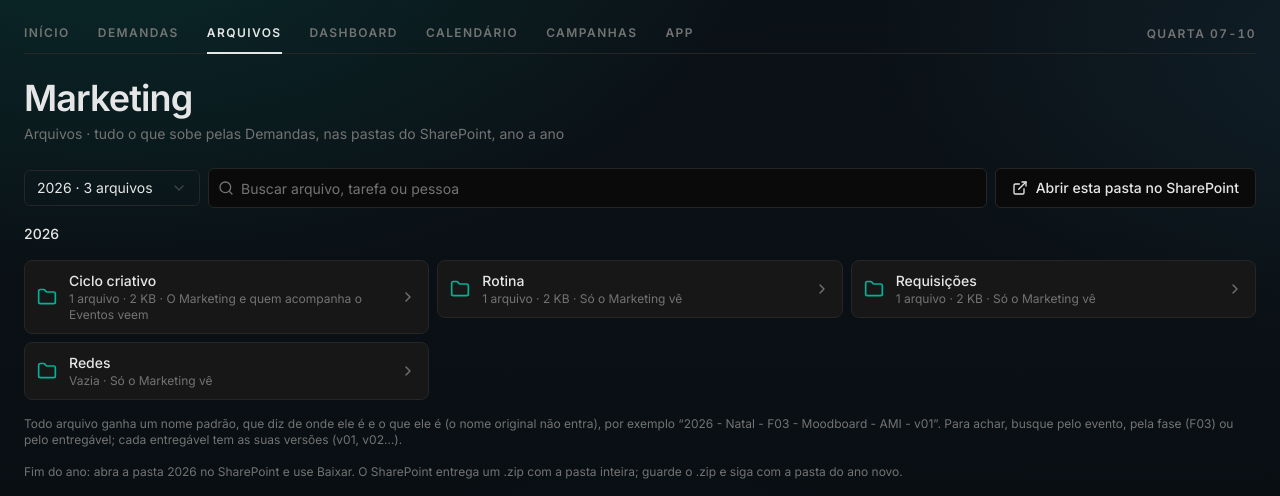
Test case: a página › o arquivo que saiu do SharePoint diz o porquê (nunca falha calado)
The image size is (1280, 496).
In the field named "Buscar nos arquivos do ano": (597, 188) left=208, top=168, right=987, bottom=208, type "stories"
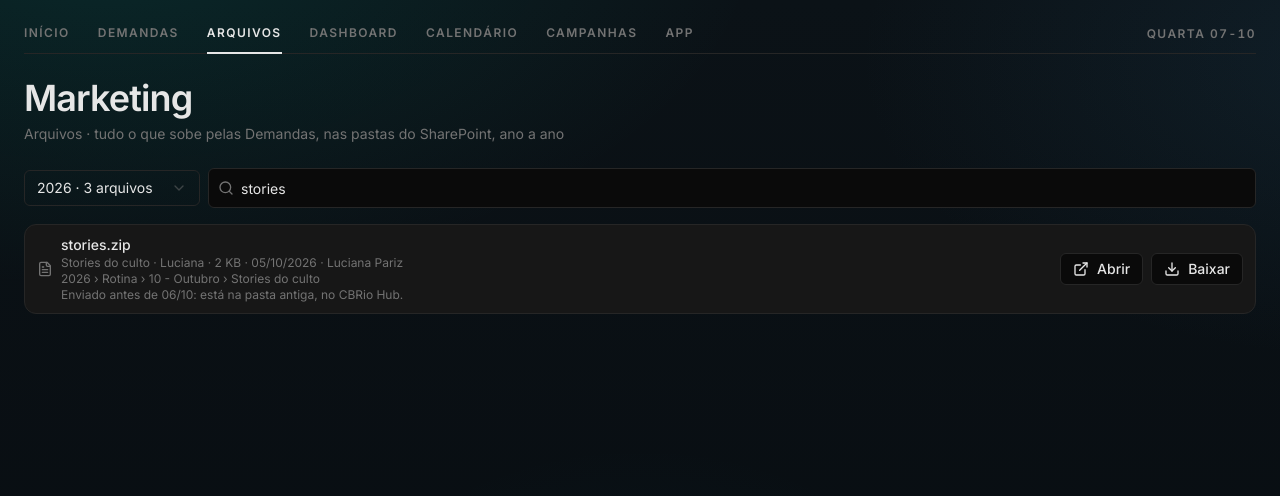
Now the text "Enviado antes de 06/10: está na pasta antiga, no CBRio Hub." is shown, box left=61, top=287, right=403, bottom=302
Click the button with aria-label "Baixar stories.zip": (1197, 269) left=1151, top=253, right=1243, bottom=285
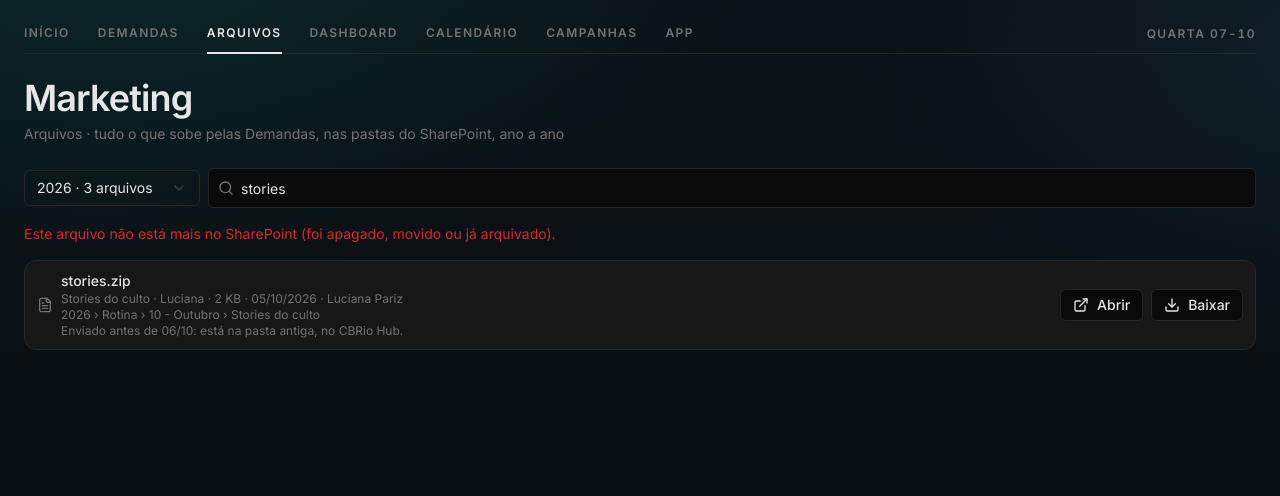
Now the message shows "não está mais no SharePoint", box left=24, top=225, right=556, bottom=242
